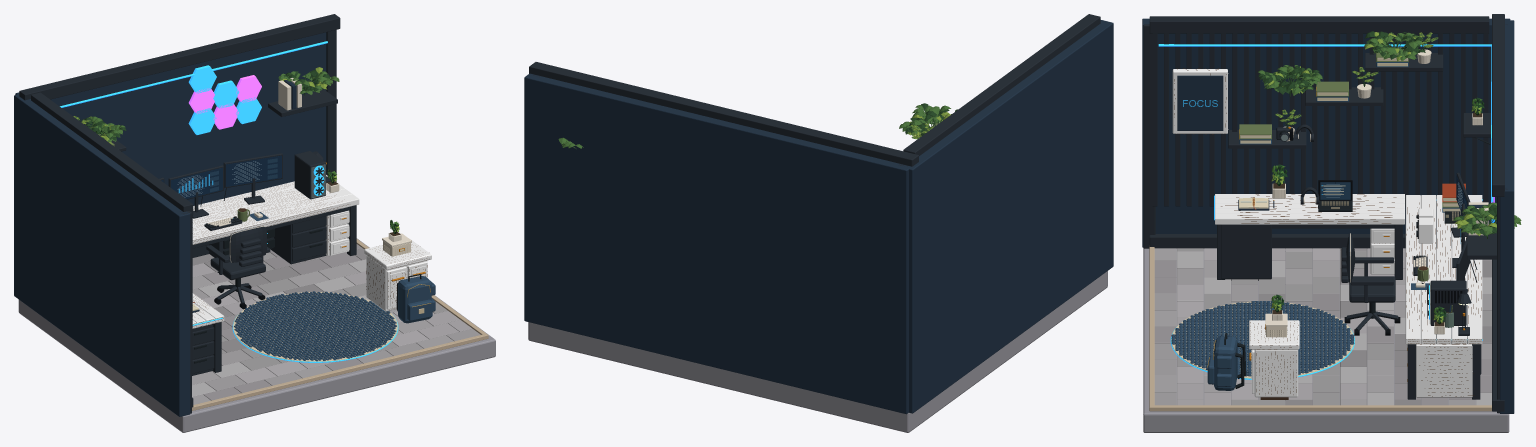
The model's file is tech.glb.
3 renders of one model, left to right at view 1: azimuth 30°, elevation 25°; view 2: azimuth 150°, elevation 25°; view 3: azimuth 270°, elevation 25°, orthographic. The views are drawn at different scales.
Parts seen in each view (by area): view 1: asset-architecture, asset-blue-braided-rug, asset-desk, asset-chair, asset-tech-right-credenza, asset-Tech right workstation pedestal, asset-Monitor 2, asset-Visible student backpack, asset-Monitor 1, asset-tempered-pc, asset-Tech left workstation pedestal, asset-left-desk-return (+3 smaller); view 2: asset-architecture, asset-Tech wall full fern 1; view 3: asset-architecture, asset-desk, asset-blue-braided-rug, asset-left-desk-return, asset-Tech gallery artwork, asset-tech-right-credenza, asset-Tech left workstation pedestal, asset-chair, asset-Visible student backpack, asset-tempered-pc, asset-Tech wall full fern 0, asset-Tech wall full fern 1 (+12 smaller).
Boxes of the visible parts, x1=… form: asset-architecture: x1=14, y1=14, x2=495, y2=432; asset-blue-braided-rug: x1=233, y1=291, x2=397, y2=361; asset-desk: x1=192, y1=175, x2=359, y2=255; asset-chair: x1=206, y1=226, x2=270, y2=309; asset-tech-right-credenza: x1=364, y1=238, x2=431, y2=311; asset-Tech right workstation pedestal: x1=270, y1=216, x2=326, y2=264; asset-Monitor 2: x1=223, y1=153, x2=282, y2=204; asset-Visible student backpack: x1=396, y1=274, x2=435, y2=323; asset-Monitor 1: x1=168, y1=165, x2=223, y2=218; asset-tempered-pc: x1=294, y1=151, x2=325, y2=199; asset-Tech left workstation pedestal: x1=192, y1=324, x2=214, y2=375; asset-left-desk-return: x1=192, y1=293, x2=224, y2=372; asset-architecture: x1=524, y1=14, x2=1113, y2=432; asset-Tech wall full fern 1: x1=899, y1=103, x2=957, y2=136; asset-architecture: x1=1142, y1=14, x2=1514, y2=432; asset-desk: x1=1405, y1=195, x2=1482, y2=399; asset-blue-braided-rug: x1=1171, y1=301, x2=1354, y2=378; asset-left-desk-return: x1=1215, y1=194, x2=1404, y2=279; asset-Tech gallery artwork: x1=1172, y1=68, x2=1228, y2=134; asset-tech-right-credenza: x1=1249, y1=320, x2=1299, y2=399; asset-Tech left workstation pedestal: x1=1221, y1=224, x2=1271, y2=280; asset-chair: x1=1341, y1=233, x2=1400, y2=335; asset-Visible student backpack: x1=1207, y1=333, x2=1246, y2=390; asset-tempered-pc: x1=1427, y1=280, x2=1466, y2=325; asset-Tech wall full fern 0: x1=1258, y1=65, x2=1322, y2=96; asset-Tech wall full fern 1: x1=1364, y1=31, x2=1425, y2=60.
Size of the model in its own units: 4.51 by 3.04 by 4.19.
